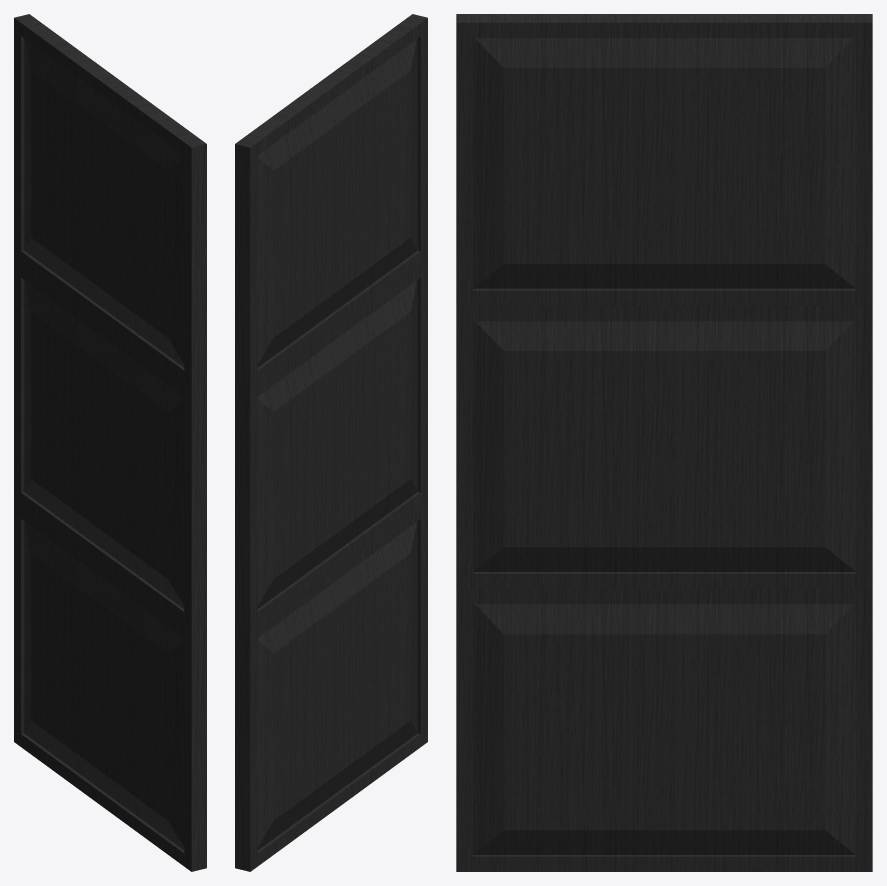
File: SingleDoor.fbx
3 renders of one model, left to right at view 1: azimuth 30°, elevation 25°; view 2: azimuth 150°, elevation 25°; view 3: azimuth 270°, elevation 25°, orthographic. The views are drawn at different scales.
Parts seen in each view (by area): view 1: SingleDoor; view 2: SingleDoor; view 3: SingleDoor.
Part boxes in pixels (box(x1,y1,x2,y2)): SingleDoor: box(14, 14, 206, 871); SingleDoor: box(235, 14, 427, 871); SingleDoor: box(456, 14, 872, 871).
Size of the model in its own units: 7 by 225 by 100.
